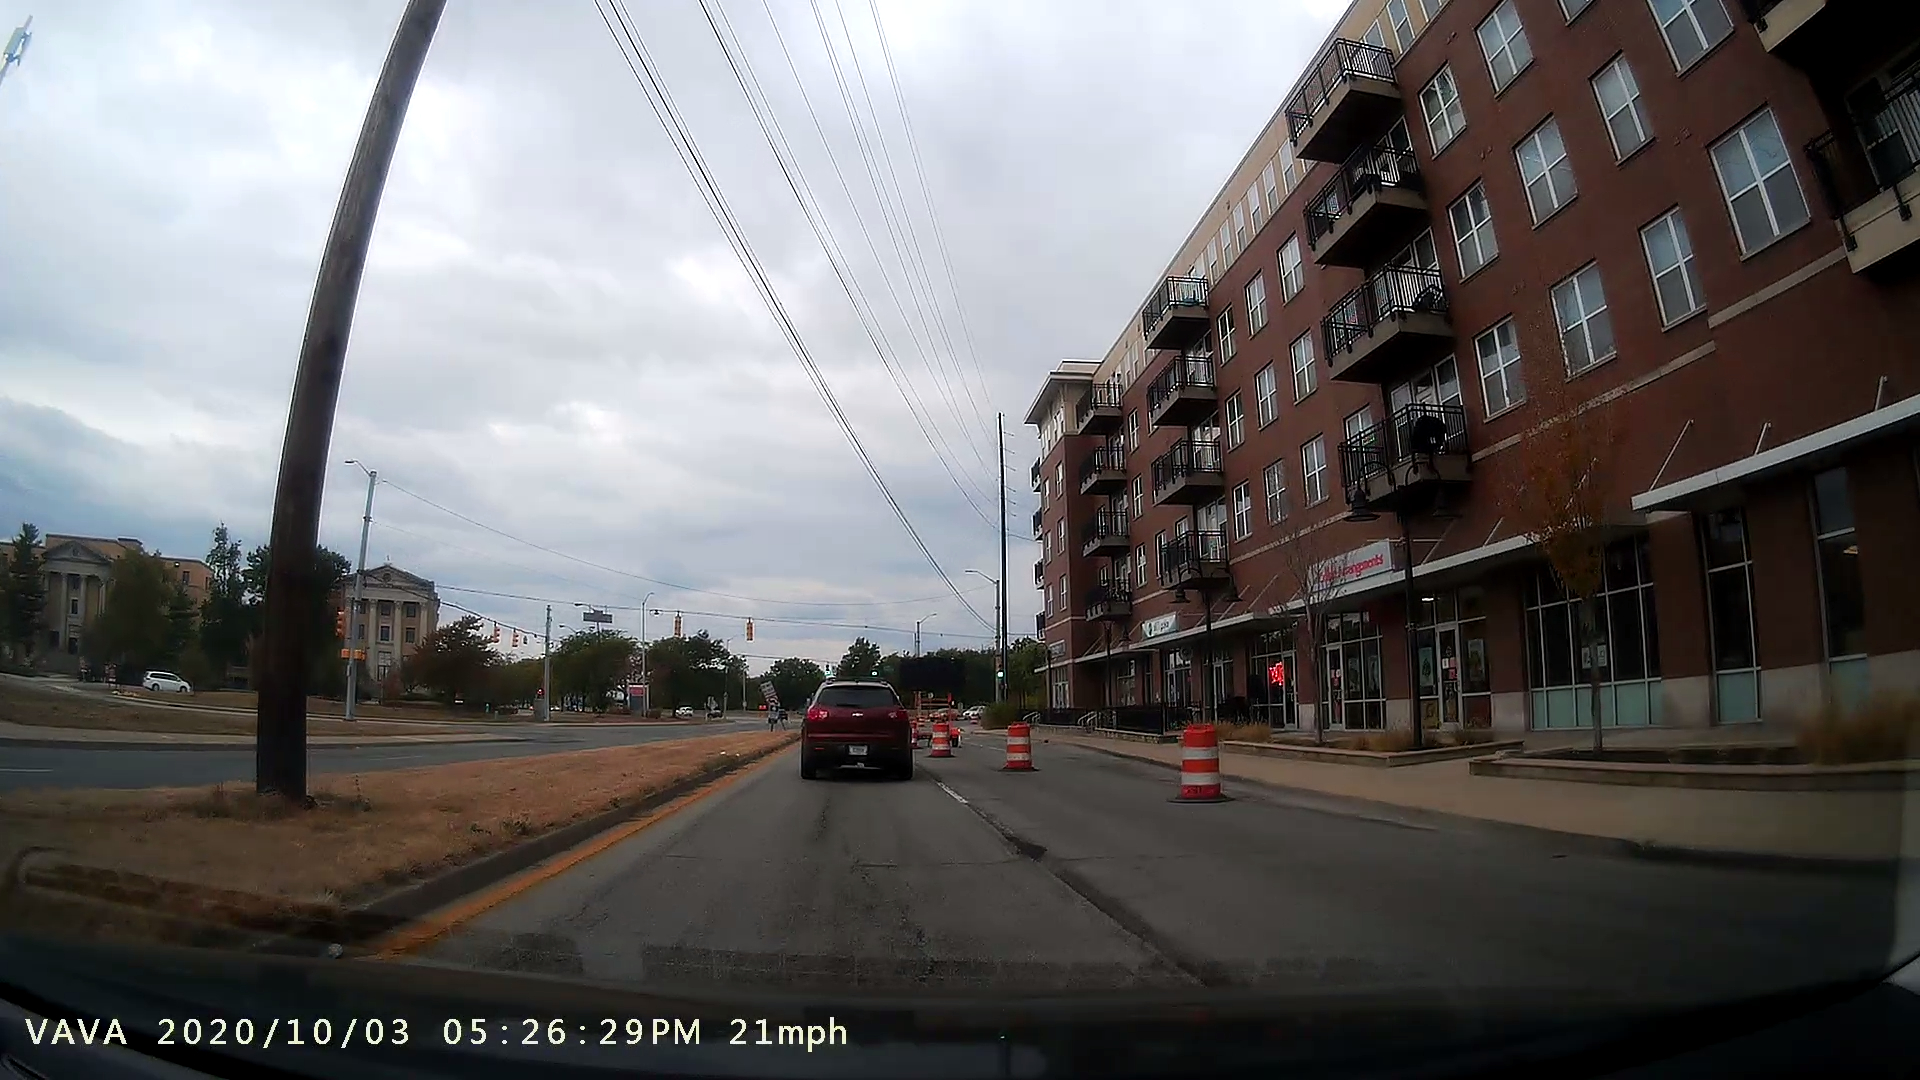const_barrel: (1156, 705, 1241, 810), (997, 709, 1056, 775)
